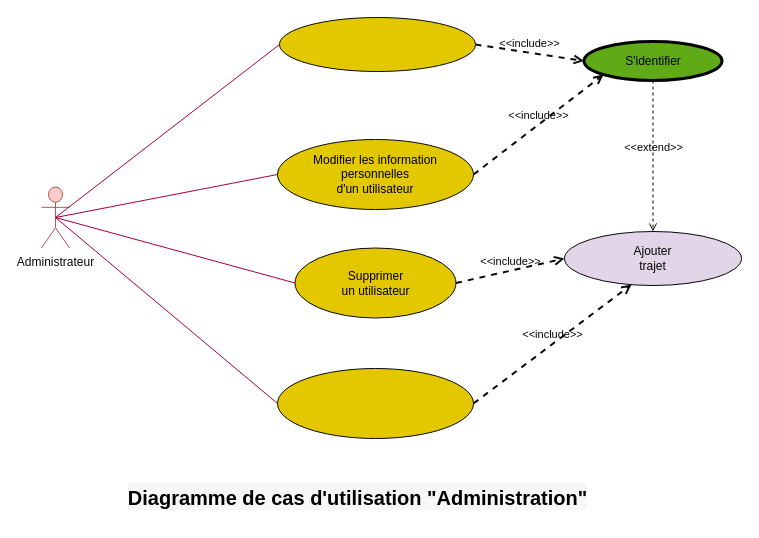
Image size: 759x538. Some labels were removed from this diagram. Here are the shapes that lost their labels. From the top down, the box of each, then its label:
(278, 16, 476, 72): Consulter les utilisateurs
(276, 368, 474, 438): Supprimer trajet d'un utilisateur
